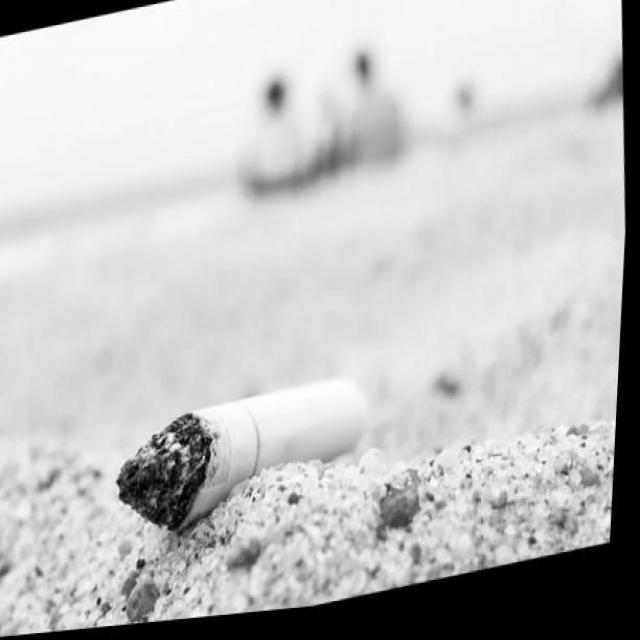cigarette: (113, 372, 380, 551)
